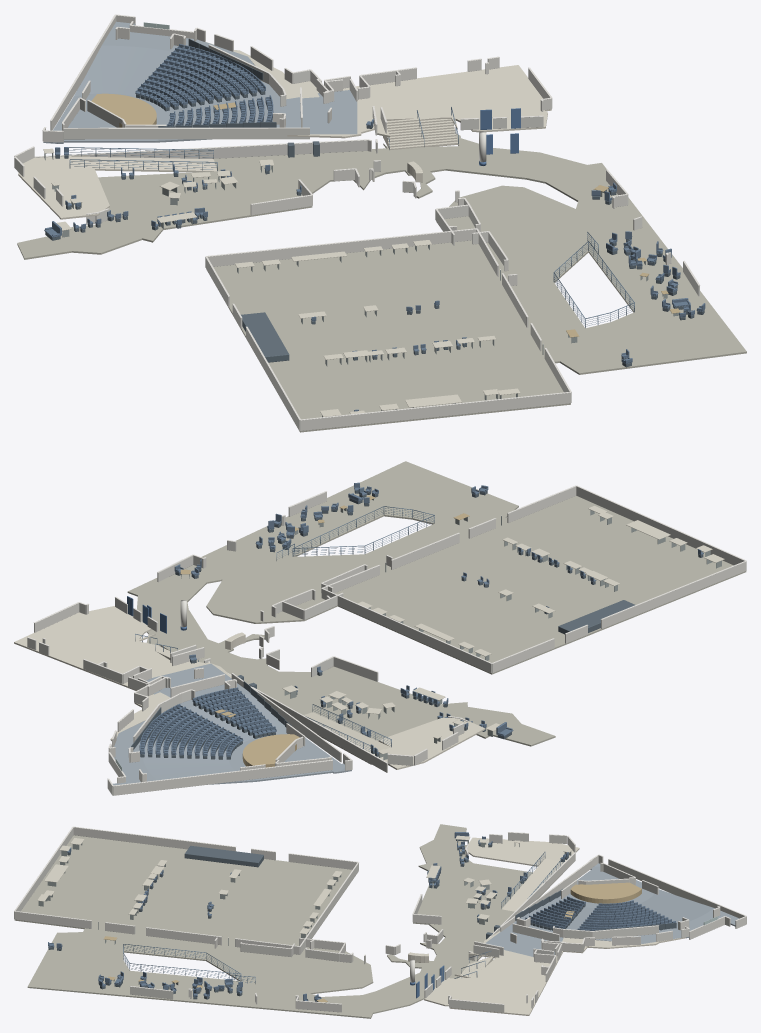
Rendered from floor-1.glb.
3 views of the same model, one above another, from view 1: azimuth 30°, elevation 25°; view 2: azimuth 150°, elevation 25°; view 3: azimuth 270°, elevation 25° (orthographic). The views are drawn at different scales.
Parts seen in each view (by area): view 1: Floor 1 · floor-0-0, Floor 1 · floor-1.58-3, Floor 1 · auditorium-rake-0-17-0, Floor 1 · floor-1.1-0, Floor 1 · court-salon-envelope-0-3-0, Floor 1 · 984A60B6-9819-4120-AA86-BF3967DE726F-0, Floor 1 · court-salon-envelope-0-1-0, Floor 1 · 2D10314E-37ED-4B86-A7E5-83C1D4F8CB90-0, Floor 1 · foodcourt-entrance-terrace-sloped-corridor, Floor 1 · auditorium-rake-0-0-0, Floor 1 · auditorium-curved-stage-0, Floor 1 · court-salon-modular-stage · body (+1 smaller); view 2: Floor 1 · floor-0-0, Floor 1 · floor-1.58-3, Floor 1 · auditorium-rake-0-17-0, Floor 1 · floor-1.1-0, Floor 1 · 25CF7B1B-D967-4FD2-A2CB-B9B7EA7DC26C-0, Floor 1 · court-salon-envelope-0-1-0, Floor 1 · court-salon-envelope-0-2-2, Floor 1 · court-salon-envelope-0-3-0, Floor 1 · auditorium-rake-0-0-0, Floor 1 · auditorium-curved-stage-0, Floor 1 · 2D10314E-37ED-4B86-A7E5-83C1D4F8CB90-0, Floor 1 · foodcourt-entrance-terrace-sloped-corridor (+5 smaller); view 3: Floor 1 · floor-0-0, Floor 1 · floor-1.58-3, Floor 1 · floor-1.1-0, Floor 1 · auditorium-rake-0-17-0, Floor 1 · auditorium-curved-stage-0, Floor 1 · court-salon-envelope-0-2-2, Floor 1 · court-salon-modular-stage · body, Floor 1 · foodcourt-entrance-terrace-sloped-corridor, Floor 1 · 25CF7B1B-D967-4FD2-A2CB-B9B7EA7DC26C-0, Floor 1 · auditorium-rake-0-0-0, Floor 1 · court-salon-envelope-0-0-0, Floor 1 · court-salon-envelope-0-0-2 (+11 smaller).
Part boxes in pixels (left/top/right/bottom): Floor 1 · floor-0-0: left=17, top=134, right=746, bottom=432; Floor 1 · floor-1.58-3: left=206, top=42, right=551, bottom=138; Floor 1 · auditorium-rake-0-17-0: left=102, top=21, right=357, bottom=134; Floor 1 · floor-1.1-0: left=18, top=155, right=109, bottom=219; Floor 1 · court-salon-envelope-0-3-0: left=300, top=392, right=570, bottom=430; Floor 1 · 984A60B6-9819-4120-AA86-BF3967DE726F-0: left=63, top=128, right=309, bottom=139; Floor 1 · court-salon-envelope-0-1-0: left=207, top=229, right=476, bottom=266; Floor 1 · 2D10314E-37ED-4B86-A7E5-83C1D4F8CB90-0: left=35, top=140, right=367, bottom=158; Floor 1 · foodcourt-entrance-terrace-sloped-corridor: left=67, top=156, right=216, bottom=172; Floor 1 · auditorium-rake-0-0-0: left=53, top=93, right=169, bottom=143; Floor 1 · auditorium-curved-stage-0: left=91, top=93, right=156, bottom=127; Floor 1 · court-salon-modular-stage · body: left=241, top=312, right=289, bottom=362; Floor 1 · floor-0-0: left=127, top=461, right=746, bottom=764; Floor 1 · floor-1.58-3: left=14, top=606, right=231, bottom=740; Floor 1 · auditorium-rake-0-17-0: left=113, top=663, right=250, bottom=785; Floor 1 · floor-1.1-0: left=372, top=718, right=485, bottom=769; Floor 1 · 25CF7B1B-D967-4FD2-A2CB-B9B7EA7DC26C-0: left=113, top=760, right=332, bottom=795; Floor 1 · court-salon-envelope-0-1-0: left=321, top=589, right=491, bottom=673; Floor 1 · court-salon-envelope-0-2-2: left=601, top=561, right=746, bottom=629; Floor 1 · court-salon-envelope-0-3-0: left=576, top=486, right=744, bottom=565; Floor 1 · auditorium-rake-0-0-0: left=229, top=734, right=344, bottom=781; Floor 1 · auditorium-curved-stage-0: left=242, top=734, right=299, bottom=767; Floor 1 · 2D10314E-37ED-4B86-A7E5-83C1D4F8CB90-0: left=259, top=692, right=387, bottom=772; Floor 1 · foodcourt-entrance-terrace-sloped-corridor: left=303, top=712, right=391, bottom=753; Floor 1 · floor-0-0: left=14, top=824, right=562, bottom=1018; Floor 1 · floor-1.58-3: left=424, top=931, right=685, bottom=1015; Floor 1 · floor-1.1-0: left=464, top=837, right=579, bottom=866; Floor 1 · auditorium-rake-0-17-0: left=485, top=908, right=739, bottom=956; Floor 1 · auditorium-curved-stage-0: left=570, top=882, right=641, bottom=903; Floor 1 · court-salon-envelope-0-2-2: left=73, top=827, right=235, bottom=851; Floor 1 · court-salon-modular-stage · body: left=184, top=845, right=263, bottom=867; Floor 1 · foodcourt-entrance-terrace-sloped-corridor: left=502, top=858, right=564, bottom=911; Floor 1 · 25CF7B1B-D967-4FD2-A2CB-B9B7EA7DC26C-0: left=608, top=859, right=744, bottom=918; Floor 1 · auditorium-rake-0-0-0: left=560, top=866, right=654, bottom=908; Floor 1 · court-salon-envelope-0-0-0: left=14, top=911, right=91, bottom=928; Floor 1 · court-salon-envelope-0-0-2: left=146, top=928, right=221, bottom=945.
Size of the model in its own units: 62.03 by 3.88 by 95.23.
